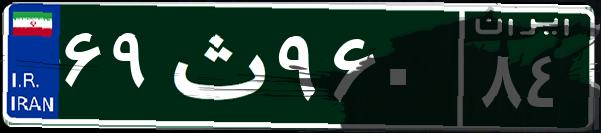0: (385, 28, 445, 110)
4: (525, 38, 570, 115)
6: (330, 28, 385, 110), (57, 26, 110, 107)
8: (475, 38, 525, 113)
9: (273, 28, 330, 110), (110, 28, 158, 105)
ث: (158, 15, 273, 115)
